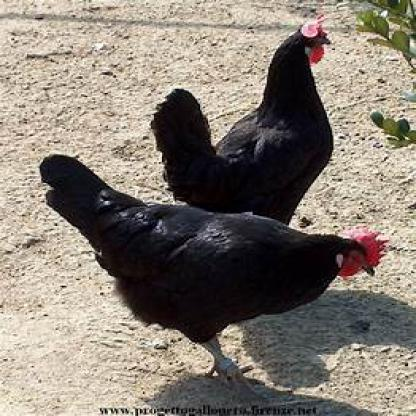chicken: (49, 153, 394, 391), (154, 24, 337, 223)
